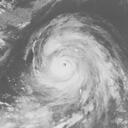cyclone: (26, 14, 121, 109)
